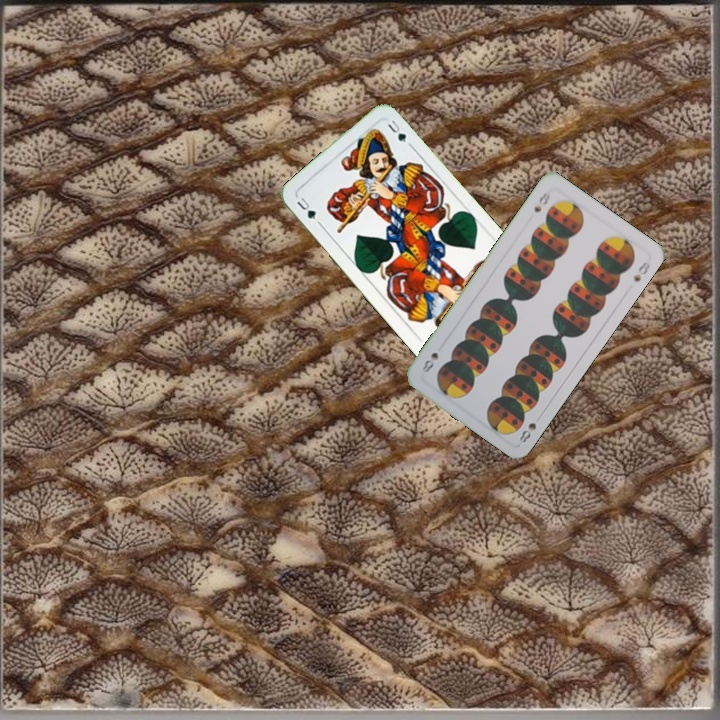GU: (292, 193, 323, 227)
S8: (515, 410, 545, 446), (530, 188, 553, 215)
